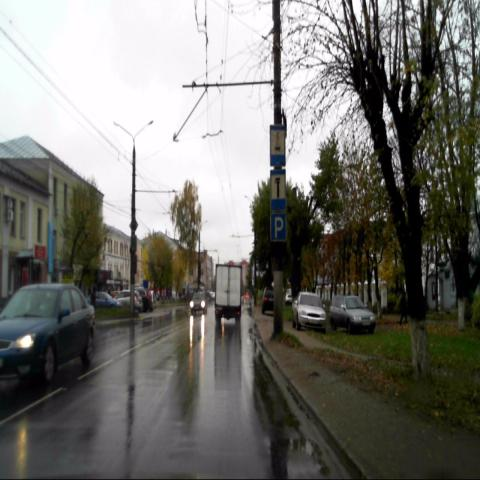7_4: (270, 169, 286, 211)
7_5: (269, 123, 286, 168)
